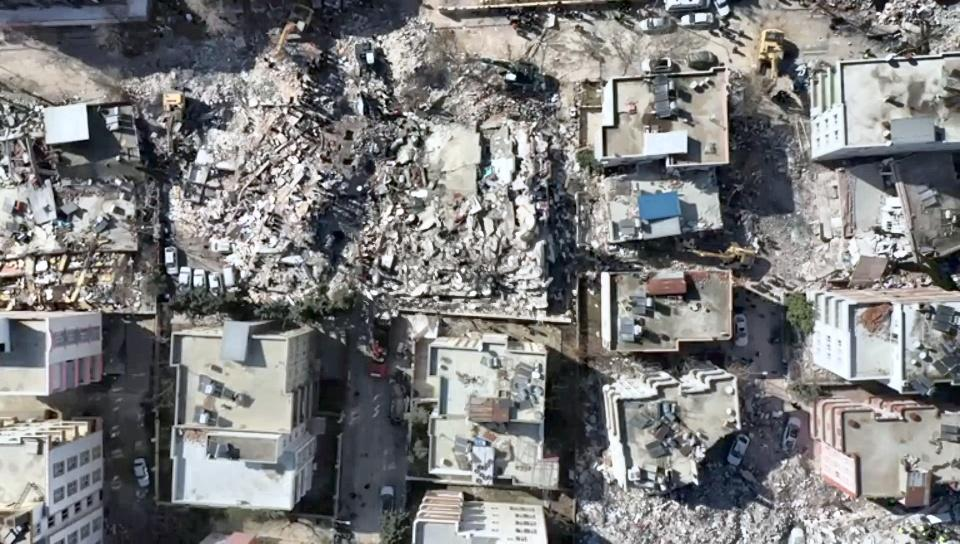kapali: (85, 20, 585, 104), (338, 89, 418, 446), (728, 66, 802, 304), (727, 348, 795, 543)
